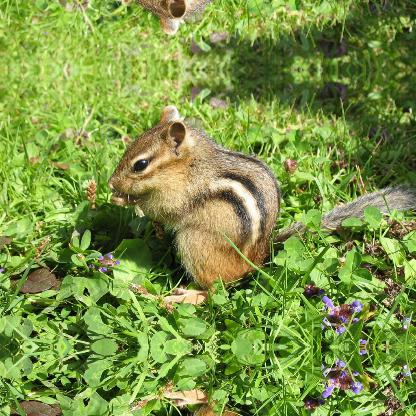Squirrel: (107, 102, 415, 306)
